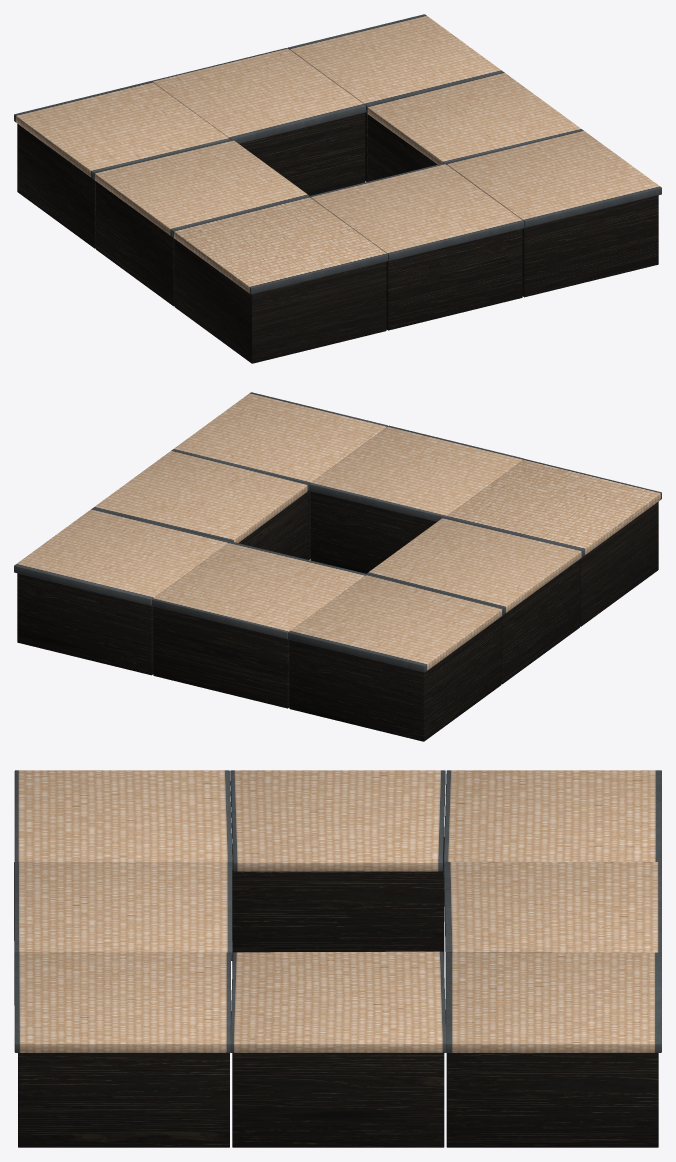
File: tatami-za.glb
The picture shows the model from 3 angles, top to bottom: view 1: azimuth 30°, elevation 25°; view 2: azimuth 150°, elevation 25°; view 3: azimuth 270°, elevation 25°; orthographic projection. The views are drawn at different scales.
Parts seen in each view (by area): view 1: Cube; view 2: Cube; view 3: Cube.
Boxes of the visible parts, box(x1,y1,x2,y2) form: Cube: box(14, 14, 661, 363); Cube: box(14, 392, 661, 741); Cube: box(14, 770, 661, 1147).
Bounding box in the file's own units: 6.1 × 1.1 × 6.11.
Materials: 2 (2 with a texture image).
